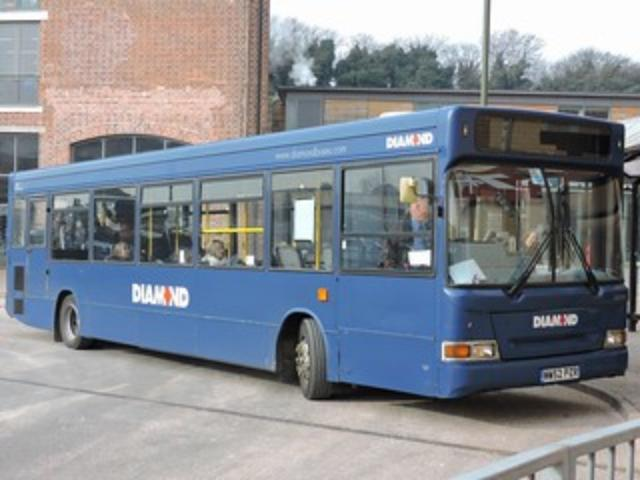bus: (6, 100, 628, 400)
